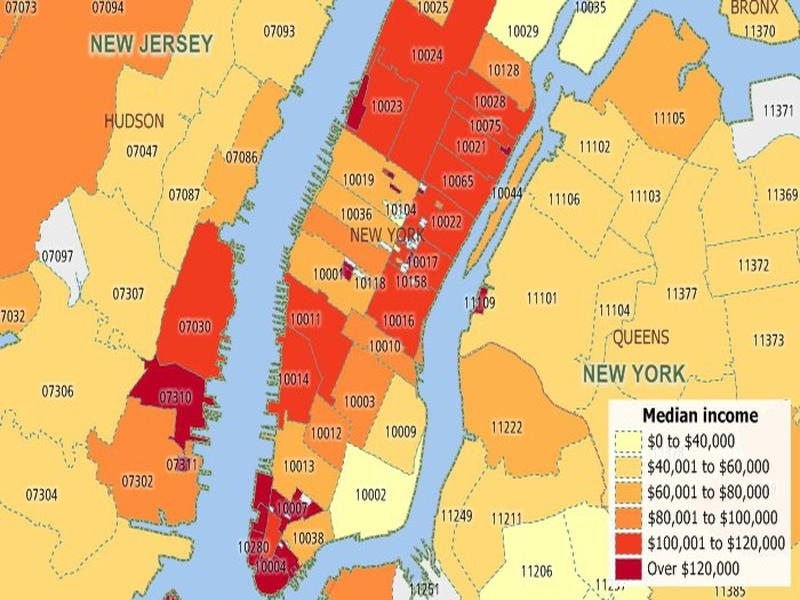legend: (607, 399, 793, 588)
